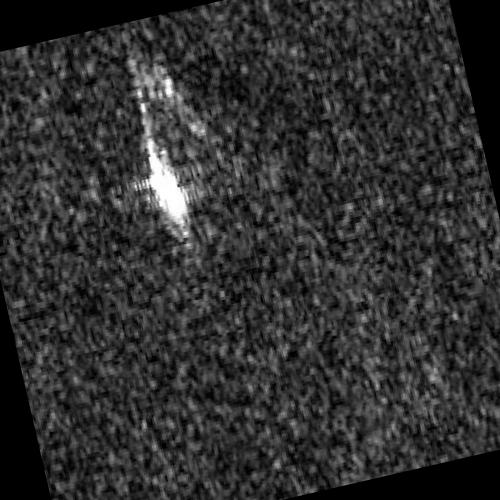ship: (145, 144, 190, 227)
